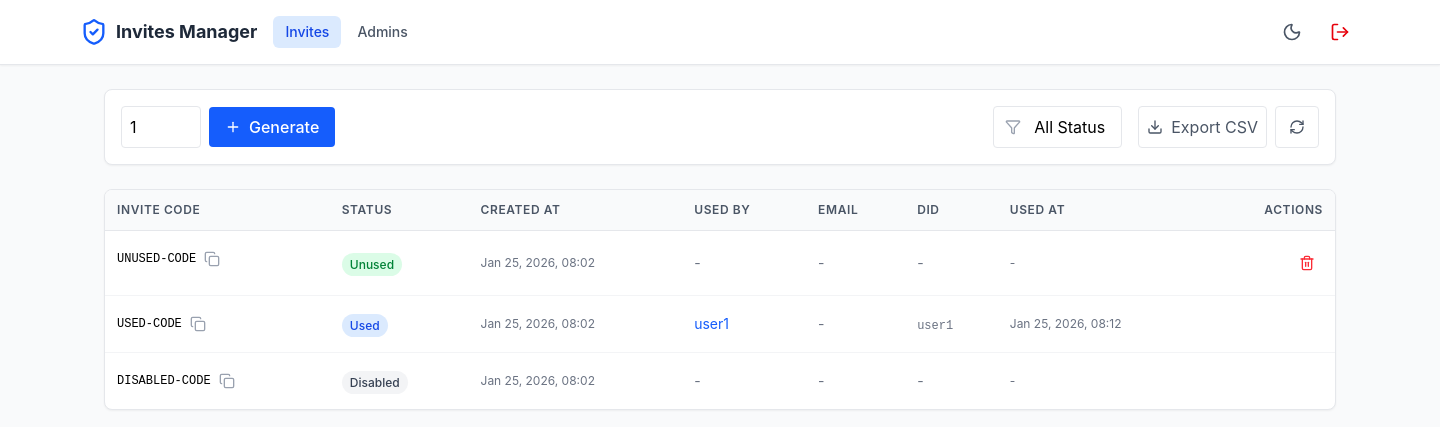
Test: App › fetches invites once on mount and does not refetch when filtering
Expected: the text "UNUSED-CODE" is shown, [105,231,330,287]
Step 1. Select "Used" in the dropdown → (1058, 127), box [993,106,1122,148]
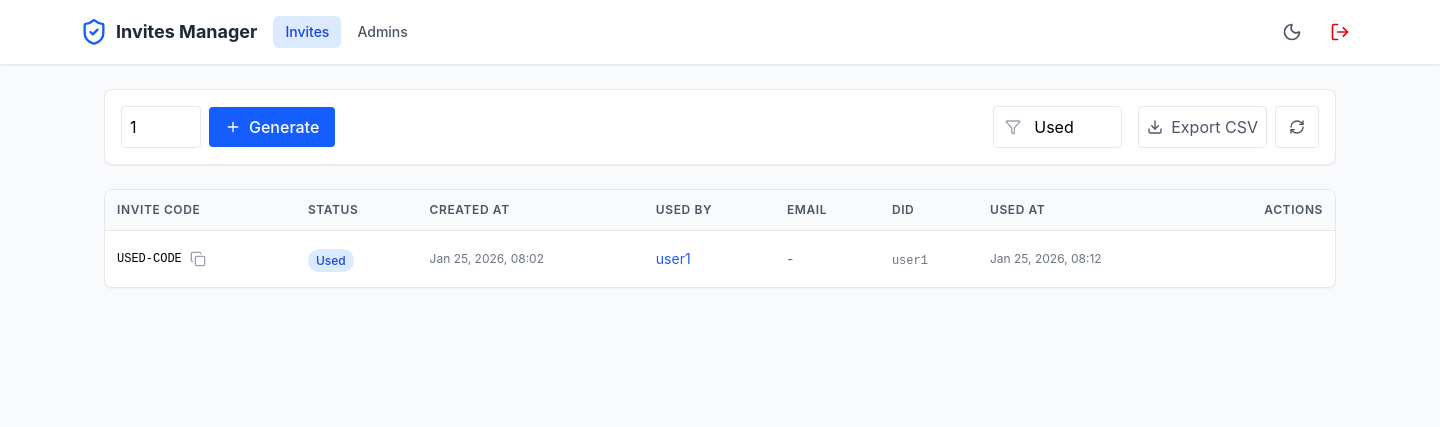
Expected: the text "UNUSED-CODE" is gone
